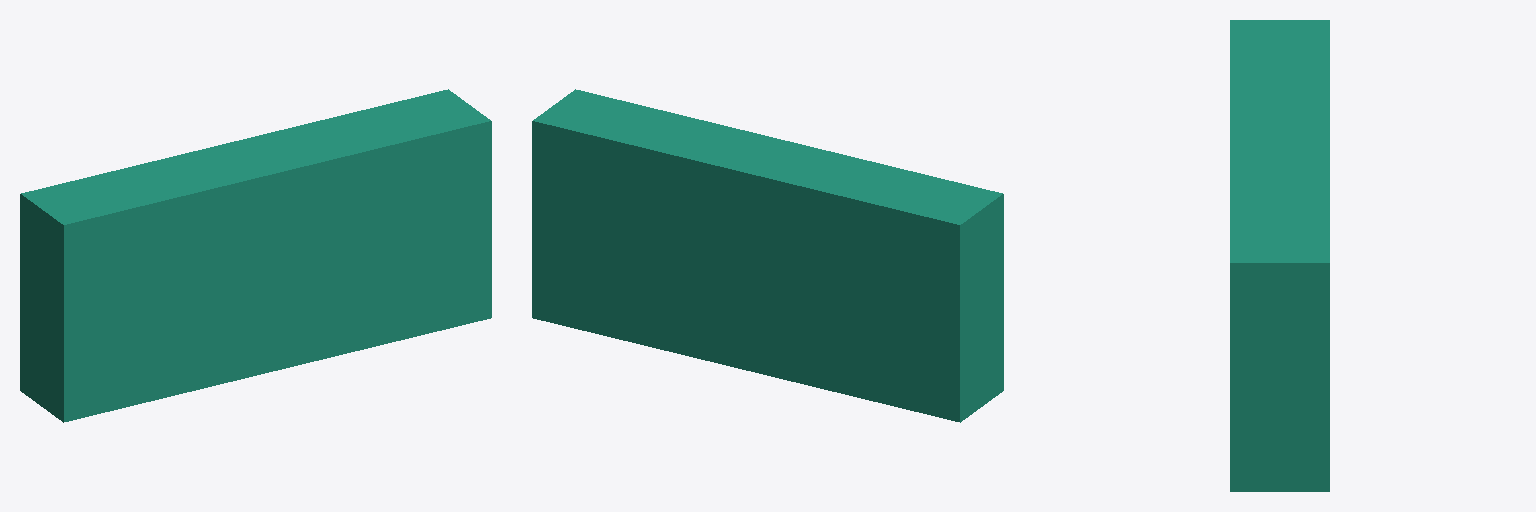
The robot description file, URDF, robot "eraser_tactile_canonical":
<?xml version="1.0"?>
<robot name="eraser_tactile_canonical">
  <link name="object_root">
    <visual>
      <origin xyz="0 0 0" rpy="0 0 0"/>
      <geometry><box size="0.11749286329668307 0.020506559201387168 0.051804802320477114"/></geometry>
      <material name="eraser"><color rgba="0.2 0.65 0.55 1.0"/></material>
    </visual>
    <collision>
      <origin xyz="0 0 0" rpy="0 0 0"/>
      <geometry><box size="0.11749286329668307 0.020506559201387168 0.051804802320477114"/></geometry>
    </collision>
    <inertial>
      <origin xyz="0 0 0" rpy="0 0 0"/>
      <mass value="0.06850195522570308"/>
      <inertia ixx="1.772063672613072e-05" iyy="9.412345879191068e-05" izz="8.120388401139314e-05" ixy="0" ixz="0" iyz="0"/>
    </inertial>
  </link>
</robot>

--- What the picture shows (computed from the rendered views, not written in the file) ---
The picture shows the robot from 3 angles, left to right: view 1: azimuth 30°, elevation 25°; view 2: azimuth 150°, elevation 25°; view 3: azimuth 270°, elevation 25°; orthographic projection.
Robot: eraser_tactile_canonical — 1 links, 0 joints (none); root link object_root; default pose: all joints at 0.
Links seen in each view (by area): view 1: object_root; view 2: object_root; view 3: object_root.
Boxes of the visible links, x1,y1,x2,y2 form: object_root: [20, 89, 491, 422]; object_root: [532, 89, 1003, 422]; object_root: [1230, 20, 1329, 491].
Size in the robot's own frame: 0.1175 by 0.0205 by 0.0518 metres.
Geometry: primitives only (box / cylinder / sphere), no mesh files.
